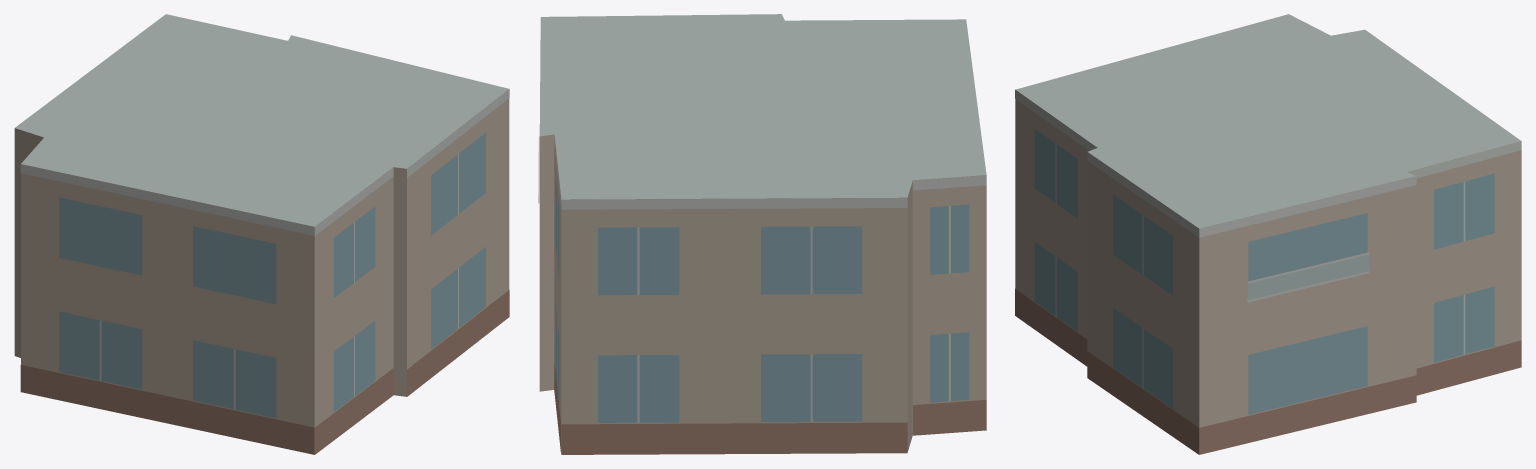
The model's file is survey-upis-32579074.glb.
3 renders of one model, left to right at view 1: azimuth 30°, elevation 25°; view 2: azimuth 150°, elevation 25°; view 3: azimuth 270°, elevation 25°, orthographic. The views are drawn at different scales.
Parts seen in each view (by area): view 1: survey-upis-32579074.tmp; view 2: survey-upis-32579074.tmp; view 3: survey-upis-32579074.tmp.
Boxes of the visible parts, x1=… form: survey-upis-32579074.tmp: x1=14, y1=14, x2=509, y2=454; survey-upis-32579074.tmp: x1=538, y1=14, x2=986, y2=454; survey-upis-32579074.tmp: x1=1015, y1=14, x2=1521, y2=454.
Size of the model in its own units: 12.42 by 6.1 by 12.38.
